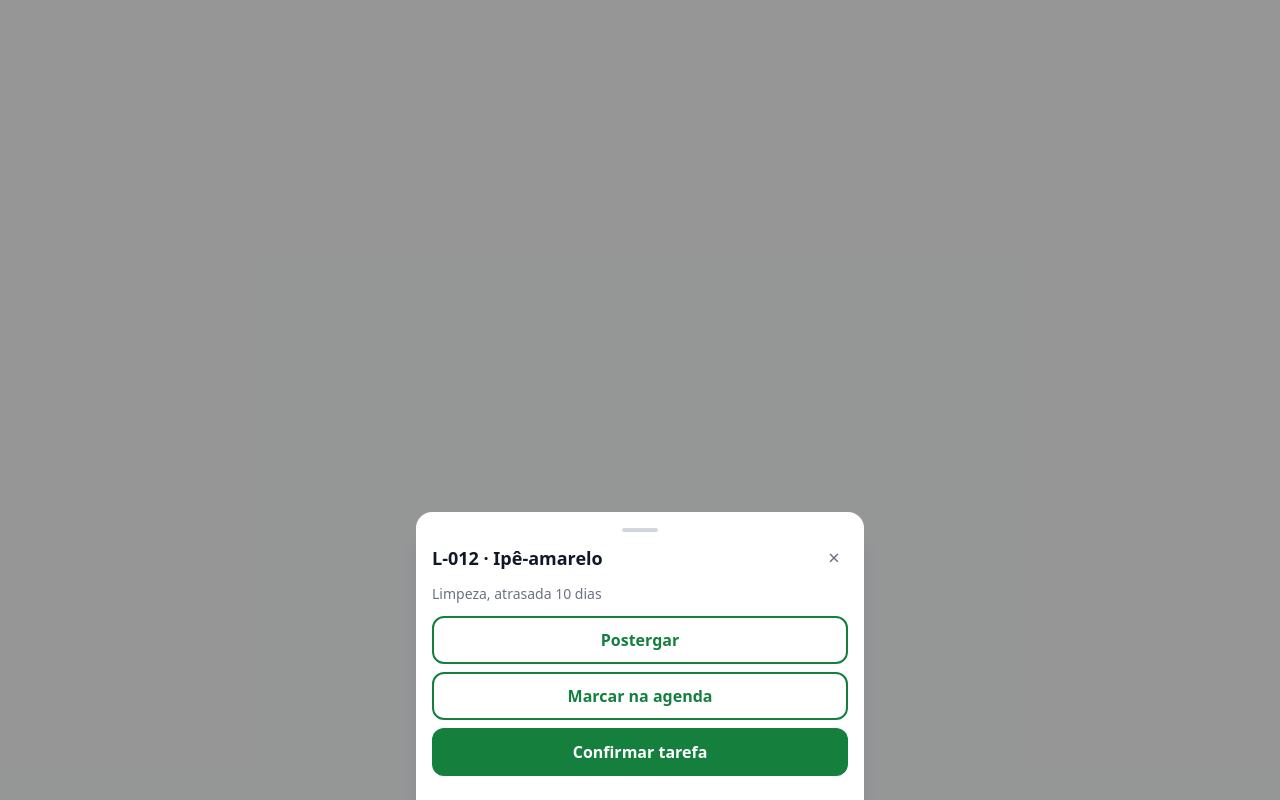
PainelProvidencia (RF-55) › com o prazo já vencido, o novo prazo conta de hoje
Click the button "Postergar" at (640, 640), box [432,616,848,664]
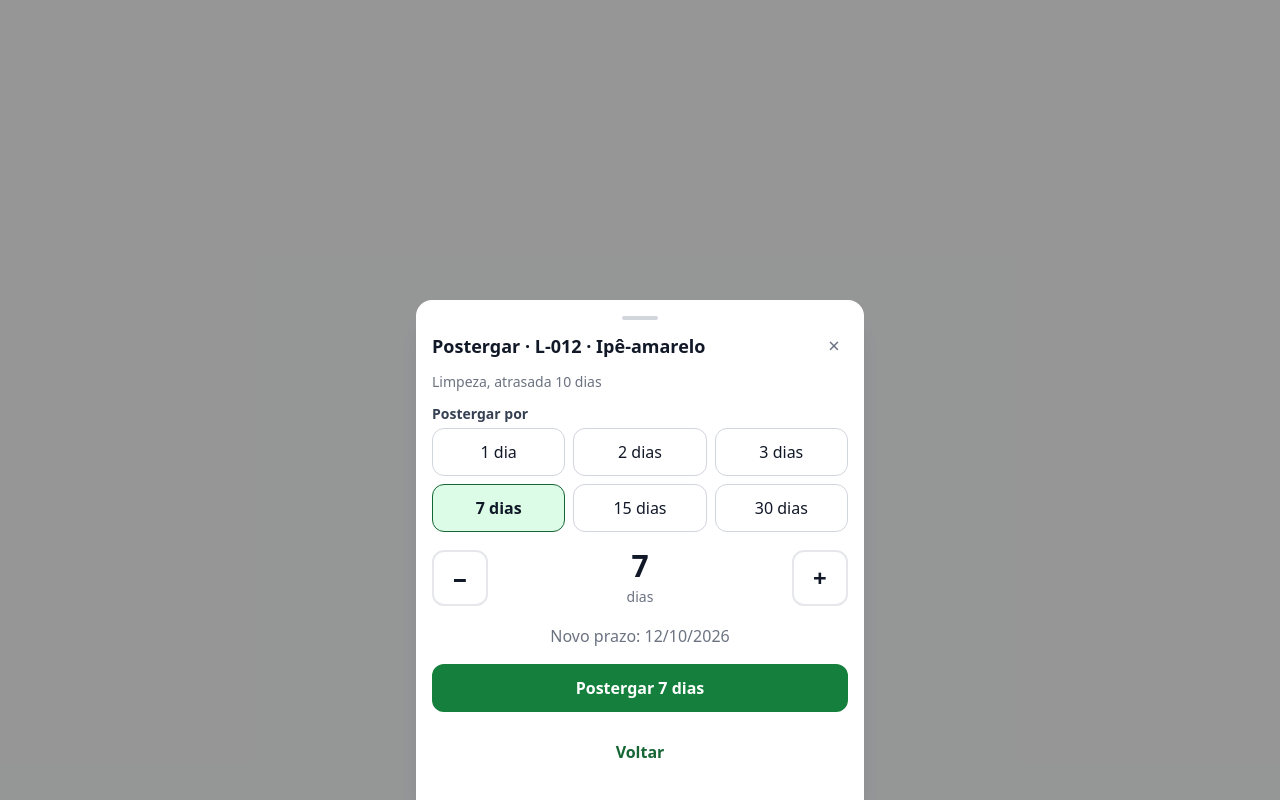
Click the button "1 dia" at (499, 452), box [432,428,565,476]
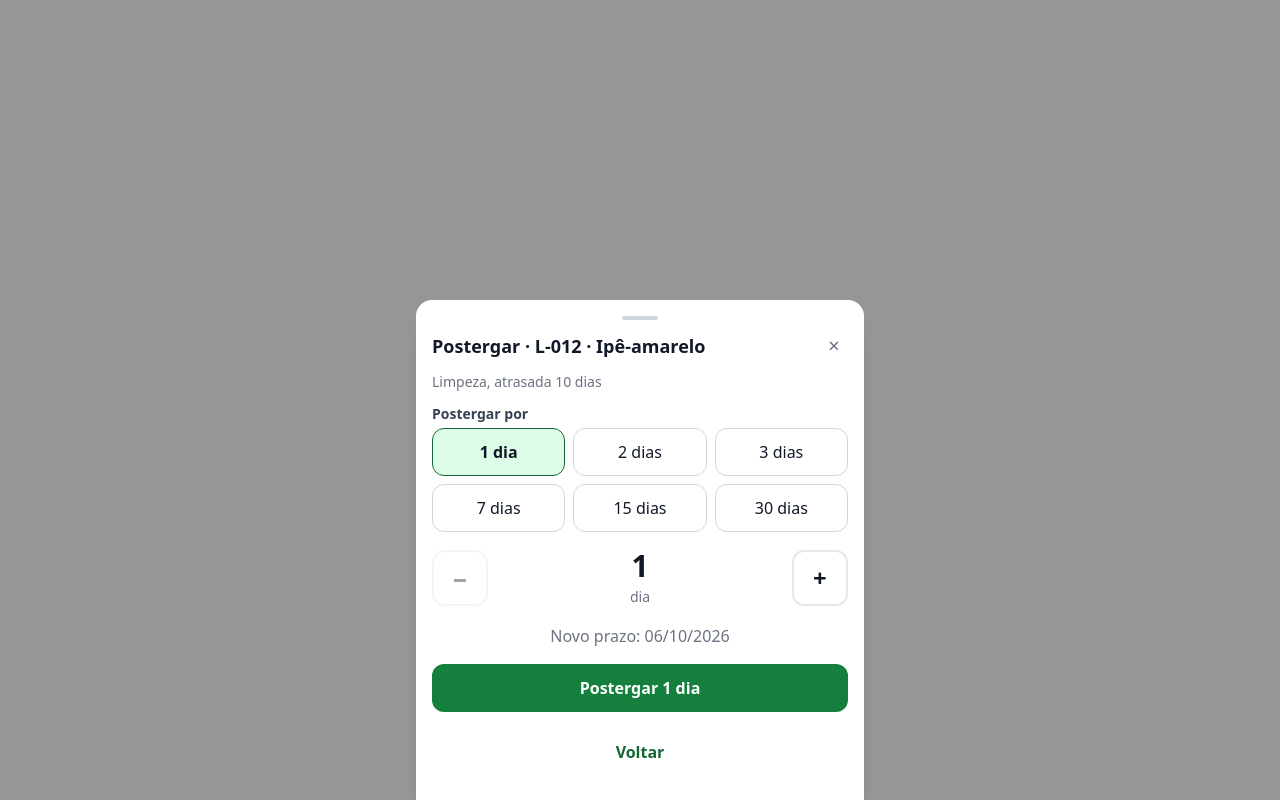
Result: the text "Novo prazo: 06/10/2026" is shown at [550,625,730,647]
